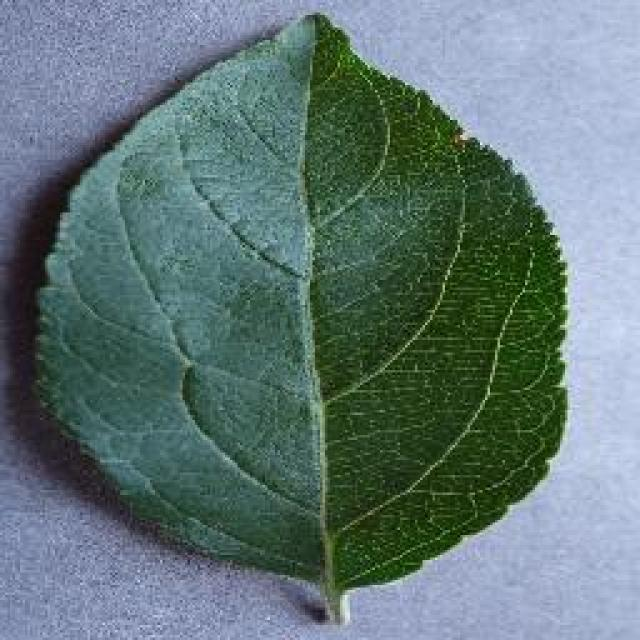apple healthy: (30, 10, 572, 625)
